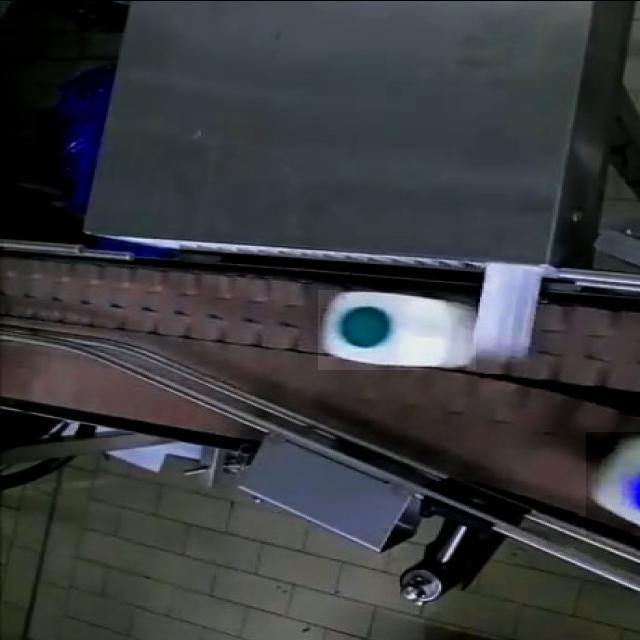milk: (316, 269, 488, 387), (580, 419, 640, 541)
